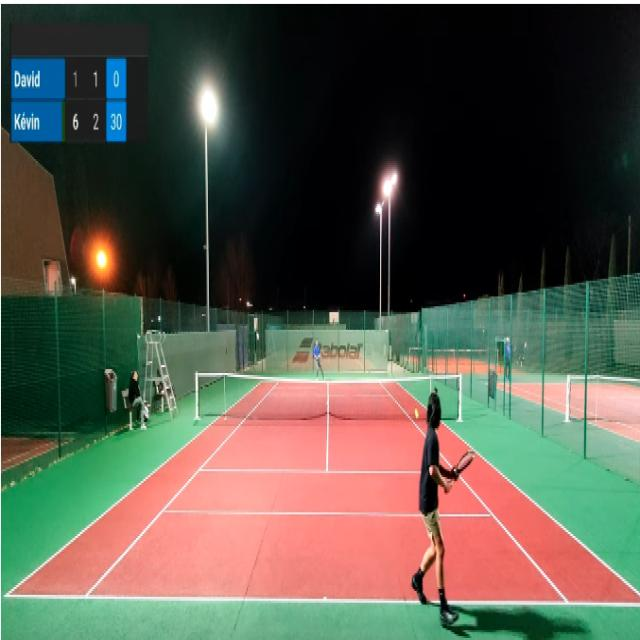ball: (414, 408, 419, 420)
